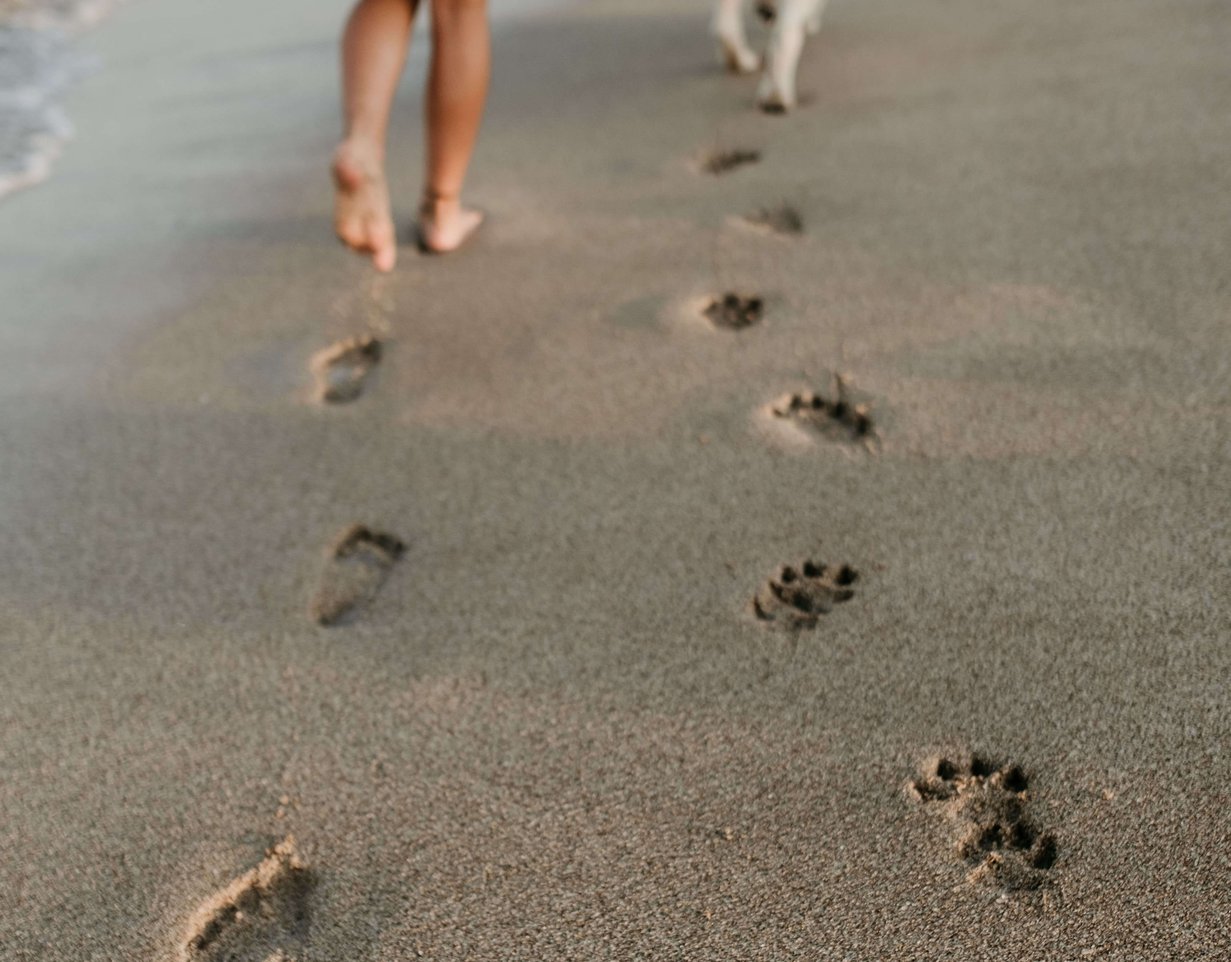human_footprint: (910, 718, 1080, 900), (153, 833, 337, 953), (309, 524, 417, 649), (756, 537, 867, 643), (768, 377, 880, 456), (305, 331, 402, 406), (701, 288, 775, 337)
